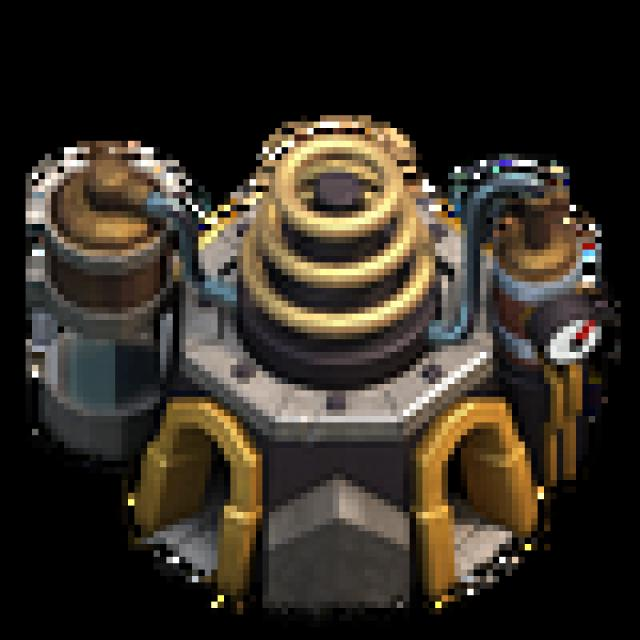laboratory: (35, 20, 619, 630)
